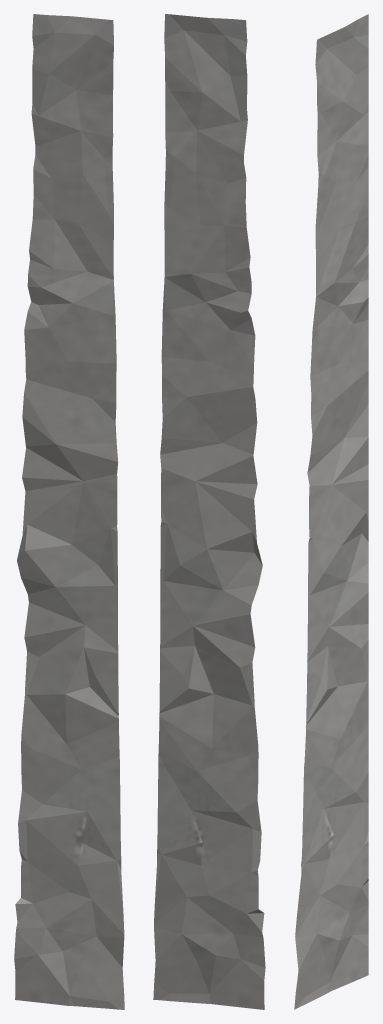
The picture shows the model from 3 angles, left to right: view 1: azimuth 30°, elevation 25°; view 2: azimuth 210°, elevation 25°; view 3: azimuth 270°, elevation 25°; orthographic projection. The views are drawn at different scales.
Size of the model in its own units: 0.0652 by 0.8374 by 0.0582.
1 material, 1 textured.
